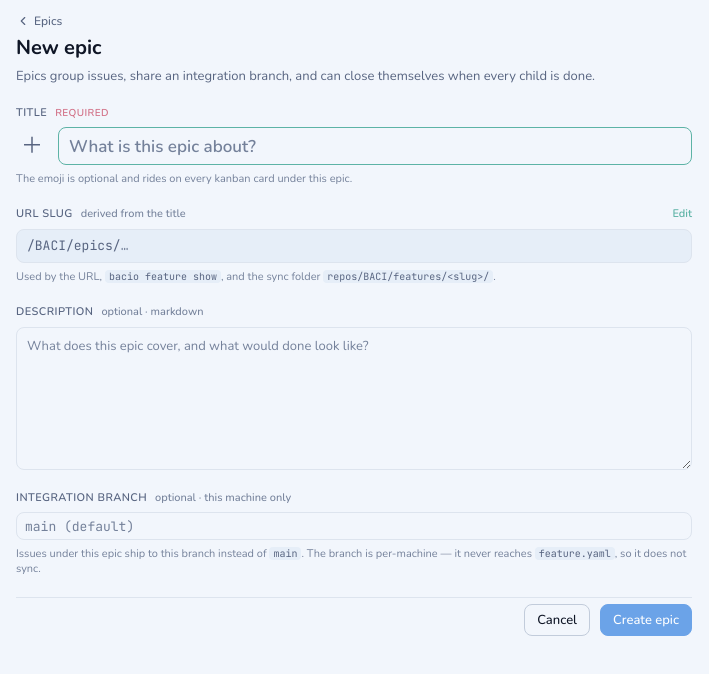
Test case: NewEpicPage › refuses a colliding slug locally, before any round trip
The width and height of the screenshot is (709, 674).
Type "Bugs" into the field labelled "Title" at (375, 146), box [58, 127, 692, 165]
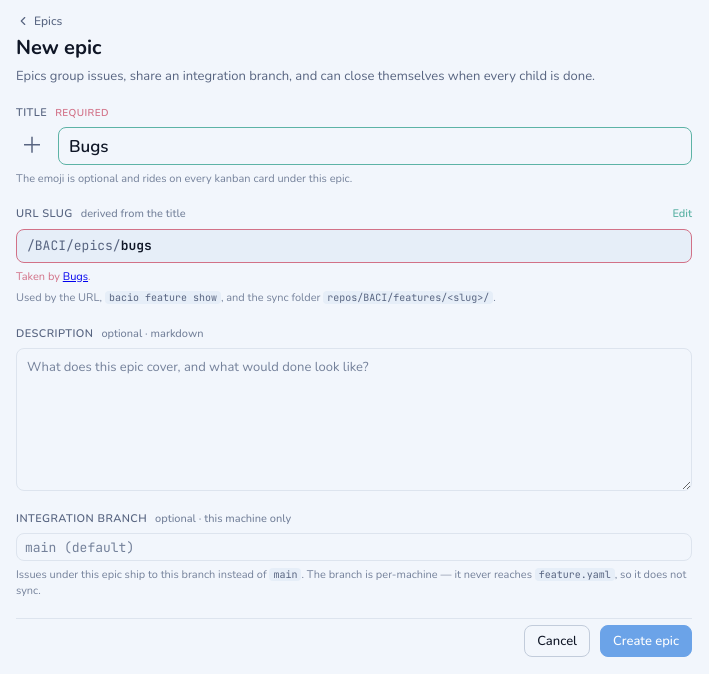
Check: the button "Create epic" is disabled, box [600, 625, 692, 657]
Check: the text "Taken by Bugs ." is shown, box [16, 269, 91, 284]
